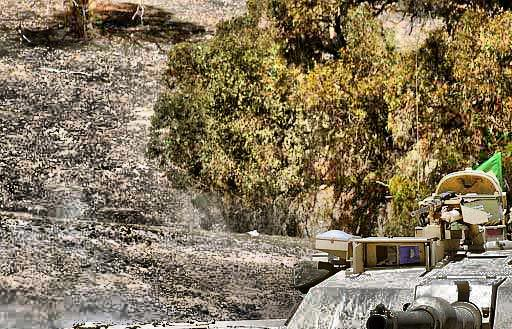tanks: (74, 171, 512, 329)
